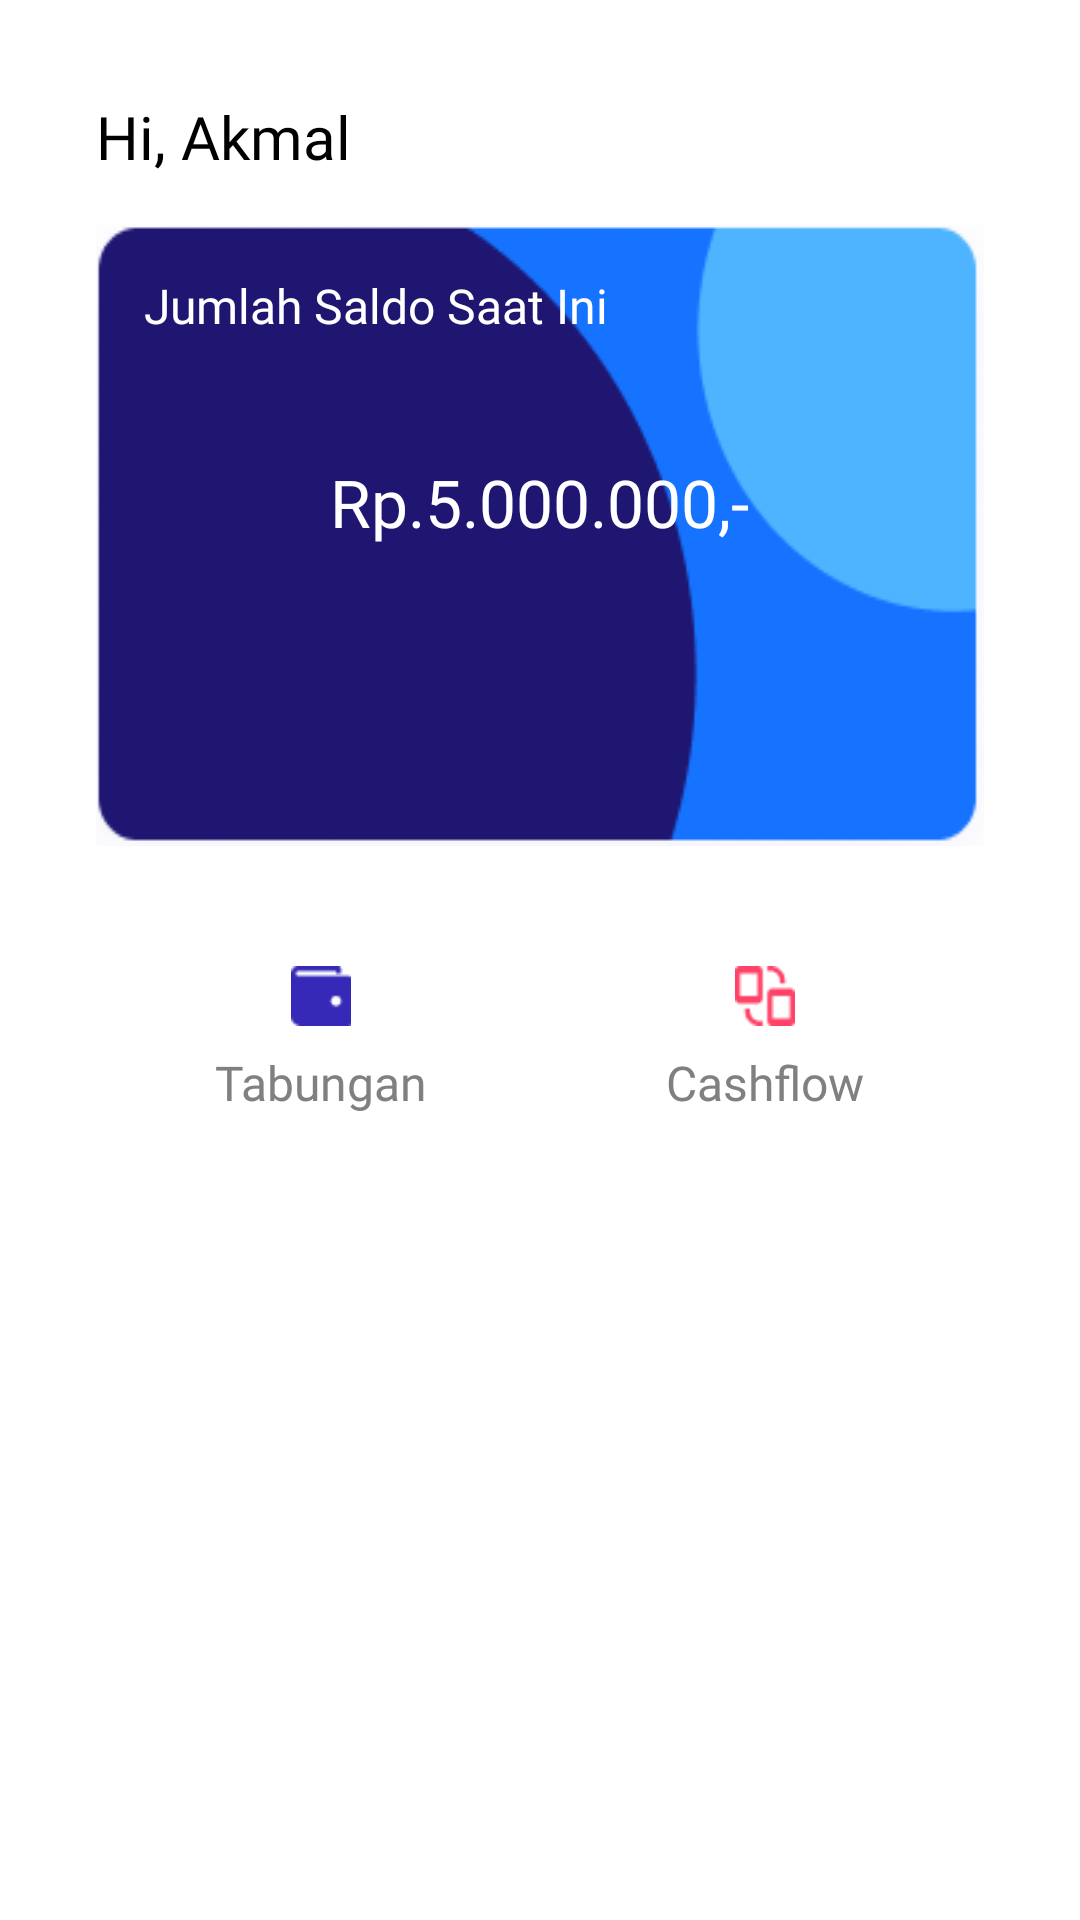

Icon click points for this 1080×1920 phone screenshot, format (x=x, y=y):
transactions: (x=765, y=996)
